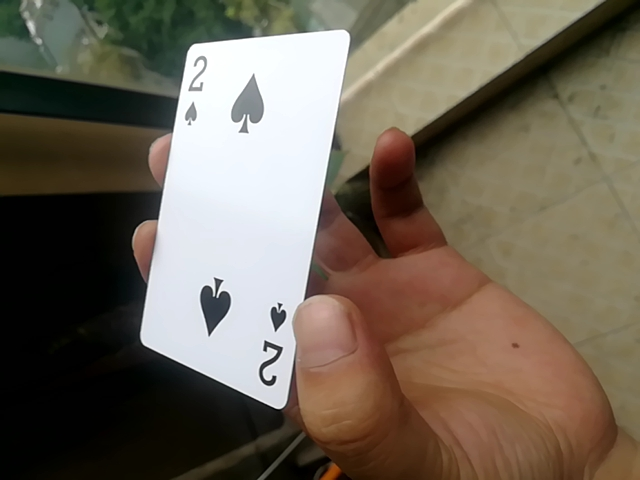ht 2: (125, 23, 352, 410)
